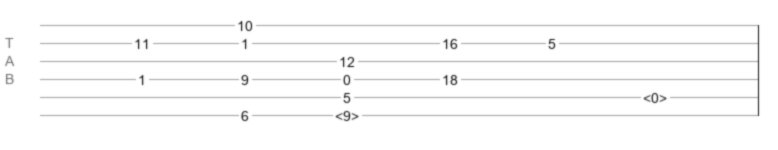0: (343, 72, 351, 82)
1: (138, 72, 146, 82), (241, 36, 249, 46)
10: (237, 18, 253, 28)
11: (134, 36, 150, 46)
12: (339, 54, 355, 64)
16: (442, 36, 458, 46)
18: (442, 72, 458, 82)
5: (343, 90, 351, 100), (548, 36, 556, 46)
6: (241, 108, 249, 118)
9: (241, 72, 249, 82)
harmonic: (335, 108, 359, 118), (643, 90, 667, 100)
